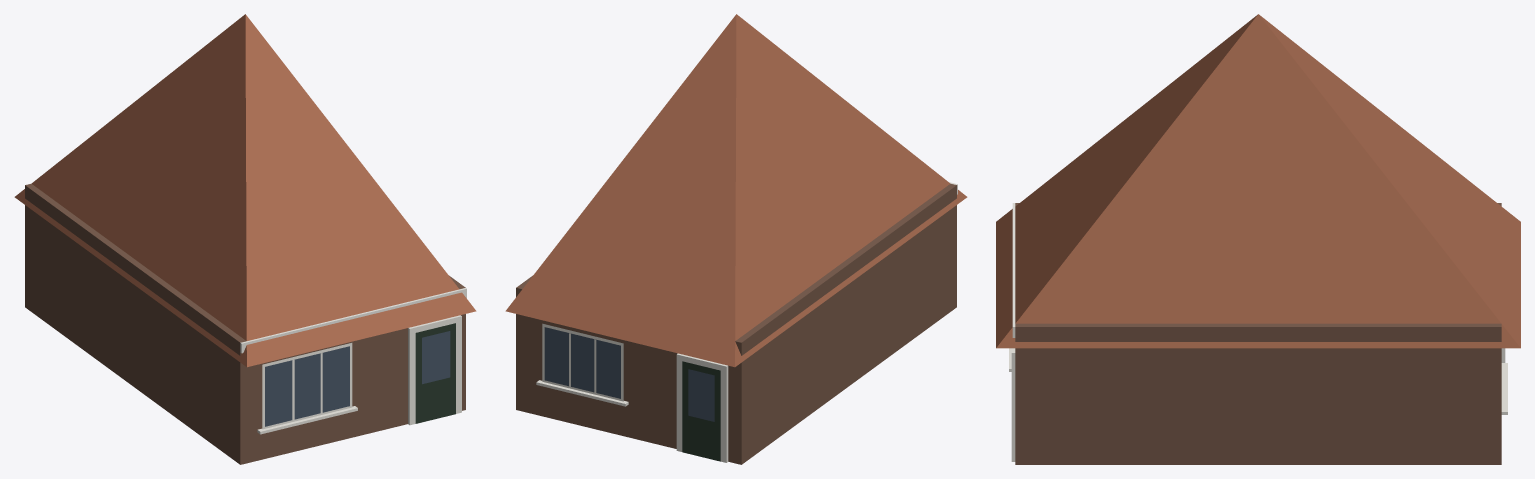
File: nd-to-cottage__green-door__2__hip__long__solid__f0d1__mirror.glb
3 views of the same model, side by side, from view 1: azimuth 30°, elevation 25°; view 2: azimuth 150°, elevation 25°; view 3: azimuth 270°, elevation 25° (orthographic). The views are drawn at different scales.
Visible parts, largest first — view 1: nd-to-cottage__green-door__2__hip__long__solid__f0d1__mirror; view 2: nd-to-cottage__green-door__2__hip__long__solid__f0d1__mirror; view 3: nd-to-cottage__green-door__2__hip__long__solid__f0d1__mirror.
Boxes of the visible parts, <box> form: nd-to-cottage__green-door__2__hip__long__solid__f0d1__mirror: <box>14,14,476,464</box>; nd-to-cottage__green-door__2__hip__long__solid__f0d1__mirror: <box>505,14,967,464</box>; nd-to-cottage__green-door__2__hip__long__solid__f0d1__mirror: <box>996,14,1520,464</box>.
Size of the model in its own units: 5.41 by 7.76 by 9.49.
